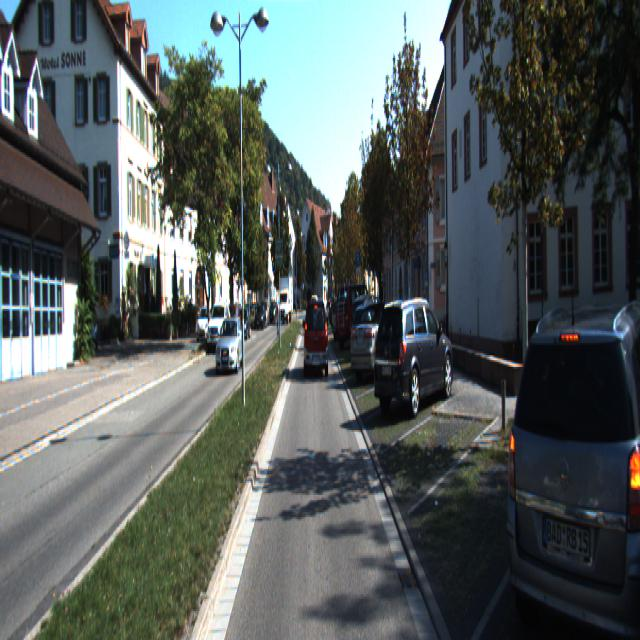Car: (501, 314, 639, 638), (372, 291, 455, 414), (348, 300, 408, 380), (334, 282, 376, 348), (305, 298, 329, 376), (215, 315, 245, 373), (208, 303, 232, 352), (79, 306, 99, 348), (223, 300, 242, 340), (197, 304, 212, 339), (254, 304, 267, 329)
